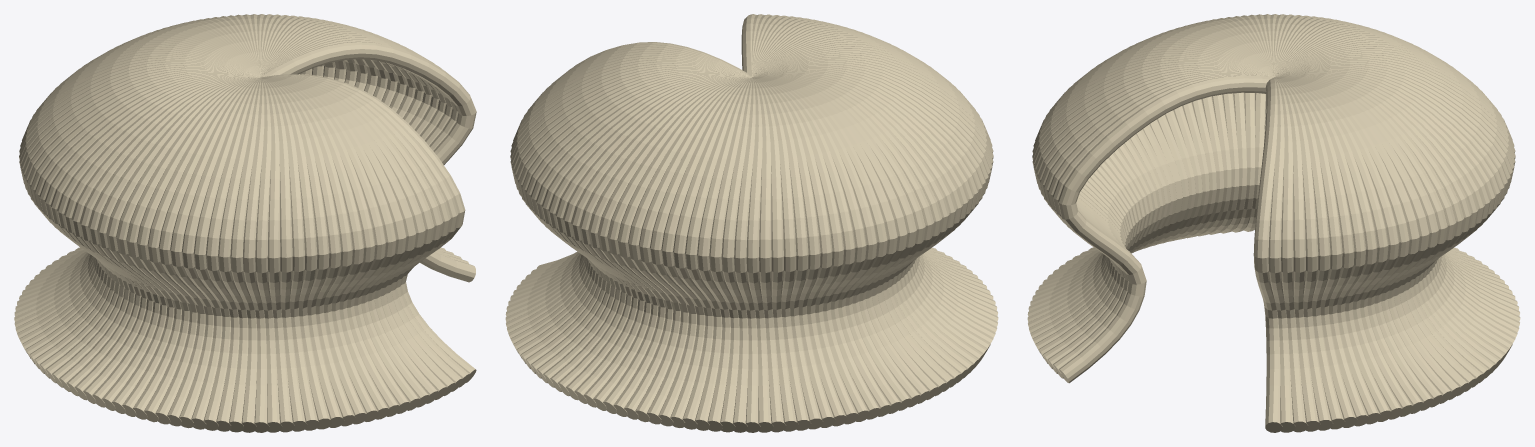
Rendered from hair1.DAE.
3 renders of one model, left to right at view 1: azimuth 30°, elevation 25°; view 2: azimuth 150°, elevation 25°; view 3: azimuth 270°, elevation 25°, orthographic.
Parts seen in each view (by area): view 1: Line001, Line001Line081, Line001Line080, Line001Line082, Line001Line079, Line001Line078, Line001Line084, Line001Line083, Line001Line085, Line001Line077, Line001Line086, Line001Line076 (+65 smaller); view 2: Line001Line042, Line001Line041, Line001Line043, Line001Line040, Line001Line044, Line001Line039, Line001Line038, Line001Line045, Line001Line046, Line001Line037, Line001Line036, Line001Line047 (+71 smaller); view 3: Line001Line101, Line001, Line001Line002, Line001Line003, Line001Line004, Line001Line005, Line001Line006, Line001Line007, Line001Line008, Line001Line009, Line001Line010, Line001Line011 (+69 smaller).
Part boxes in pixels (<box>): Line001: <box>261,41,476,282</box>; Line001Line081: <box>242,78,269,432</box>; Line001Line080: <box>230,78,260,432</box>; Line001Line082: <box>255,78,282,432</box>; Line001Line079: <box>218,78,260,432</box>; Line001Line078: <box>205,78,259,431</box>; Line001Line084: <box>262,78,307,431</box>; Line001Line083: <box>262,78,294,432</box>; Line001Line085: <box>263,78,319,430</box>; Line001Line077: <box>193,78,259,430</box>; Line001Line086: <box>263,78,331,429</box>; Line001Line076: <box>182,78,258,429</box>; Line001Line042: <box>746,78,773,432</box>; Line001Line041: <box>734,78,760,432</box>; Line001Line043: <box>753,78,785,432</box>; Line001Line040: <box>721,78,752,432</box>; Line001Line044: <box>753,78,798,431</box>; Line001Line039: <box>709,78,751,432</box>; Line001Line038: <box>697,78,751,431</box>; Line001Line045: <box>754,78,810,430</box>; Line001Line046: <box>755,78,823,429</box>; Line001Line037: <box>685,78,750,430</box>; Line001Line036: <box>673,78,750,429</box>; Line001Line047: <box>754,78,835,427</box>; Line001Line101: <box>1058,75,1273,383</box>; Line001: <box>1253,77,1282,432</box>; Line001Line002: <box>1268,78,1295,432</box>; Line001Line003: <box>1275,78,1307,432</box>; Line001Line004: <box>1275,78,1320,431</box>; Line001Line005: <box>1276,78,1332,430</box>; Line001Line006: <box>1277,78,1345,429</box>; Line001Line007: <box>1276,78,1357,427</box>; Line001Line008: <box>1277,78,1369,426</box>; Line001Line009: <box>1276,77,1380,424</box>; Line001Line010: <box>1279,78,1391,421</box>; Line001Line011: <box>1277,77,1403,419</box>.
Bounding box in the file's own units: 138 × 138 × 83.23.
